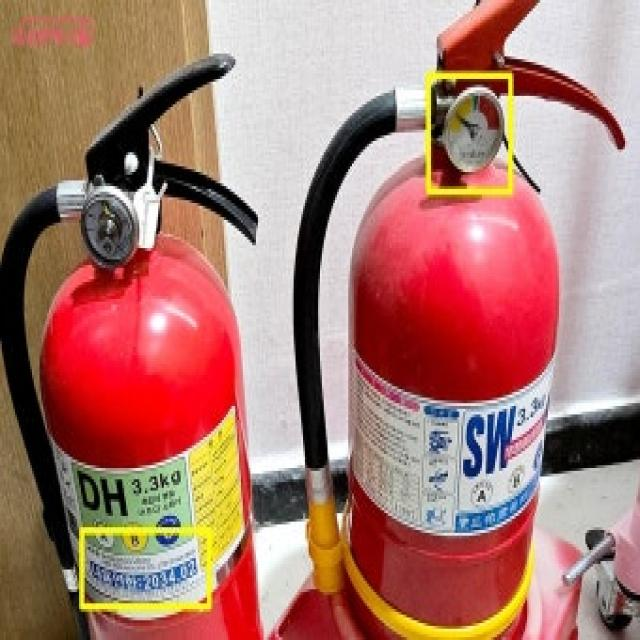pressure gauge: (444, 85, 503, 169), (83, 186, 137, 265)
